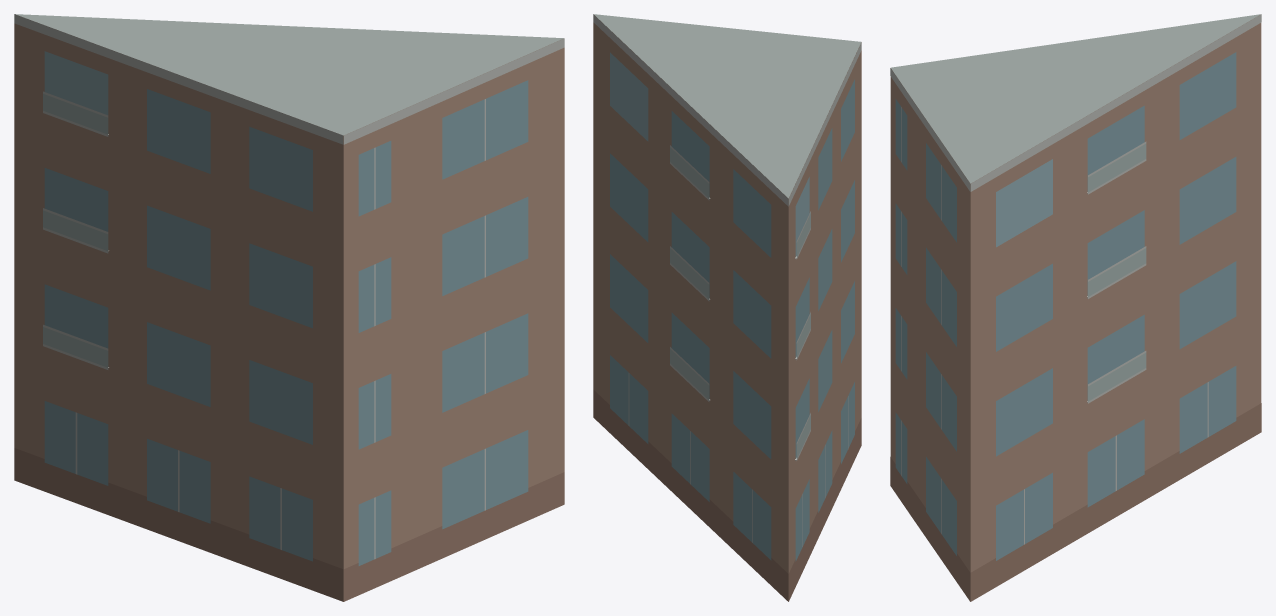
File: residential-6743947b-c1db-4873-963e-b9b6cf9a444f.glb
3 views of the same model, side by side, from view 1: azimuth 30°, elevation 25°; view 2: azimuth 150°, elevation 25°; view 3: azimuth 270°, elevation 25° (orthographic). The views are drawn at different scales.
Visible parts, largest first — view 1: residential-6743947b-c1db-4873-963e-b9b6cf9a444f.tmp; view 2: residential-6743947b-c1db-4873-963e-b9b6cf9a444f.tmp; view 3: residential-6743947b-c1db-4873-963e-b9b6cf9a444f.tmp.
Boxes of the visible parts, left/top/right/bottom form: residential-6743947b-c1db-4873-963e-b9b6cf9a444f.tmp: left=14, top=14, right=564, bottom=601; residential-6743947b-c1db-4873-963e-b9b6cf9a444f.tmp: left=593, top=14, right=861, bottom=601; residential-6743947b-c1db-4873-963e-b9b6cf9a444f.tmp: left=890, top=14, right=1261, bottom=601.
Size of the model in its own units: 10.63 by 12.2 by 9.82.
